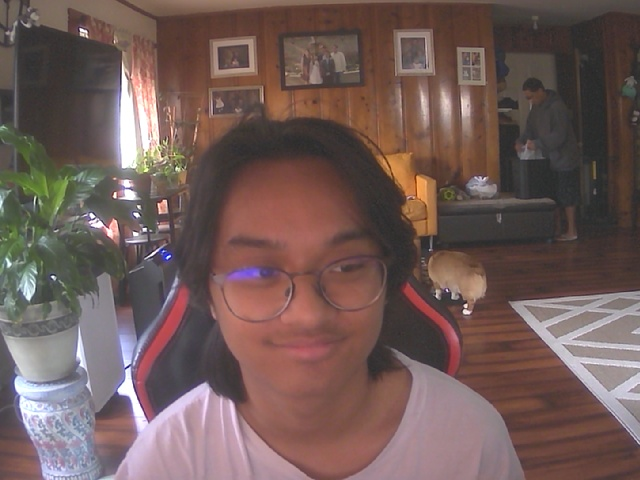happy: (203, 131, 407, 401)
